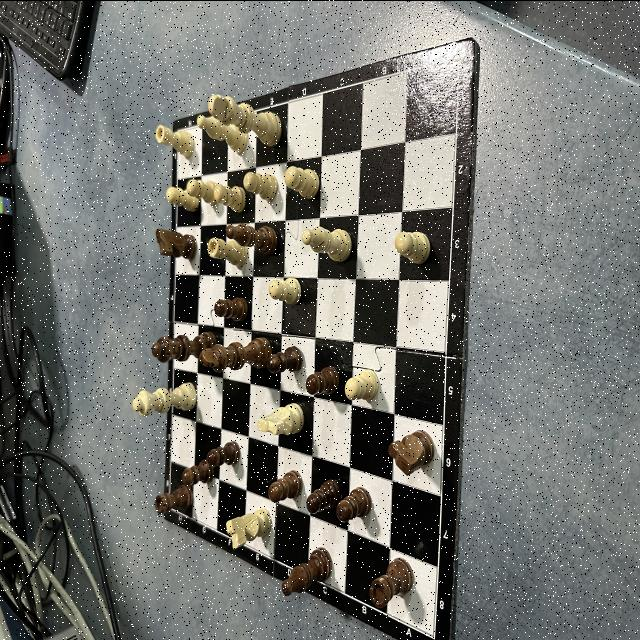Black-Bishop: (282, 546, 332, 596), (224, 221, 278, 253)
Black-King: (200, 336, 274, 368)
Black-Knight: (388, 429, 433, 475), (156, 228, 197, 259)
Black-Pawn: (337, 486, 371, 522), (306, 478, 340, 512), (268, 469, 302, 499), (306, 364, 338, 394), (207, 440, 241, 466), (269, 346, 301, 372), (214, 298, 247, 322), (181, 459, 213, 483)
Black-Queen: (152, 332, 216, 364)
Black-Rook: (369, 557, 413, 607), (155, 484, 193, 514)
White-Bishop: (195, 113, 248, 153), (302, 225, 352, 260)
White-King: (208, 92, 282, 146)
White-Knight: (225, 508, 271, 548), (258, 403, 304, 437)
White-Pawn: (284, 165, 320, 198), (396, 230, 430, 262), (242, 172, 278, 200), (346, 369, 378, 399), (269, 276, 301, 304), (214, 183, 246, 210), (166, 185, 198, 209), (187, 178, 217, 202)
White-Queen: (132, 380, 196, 416)
White-Rook: (156, 124, 194, 158), (207, 238, 248, 266)
